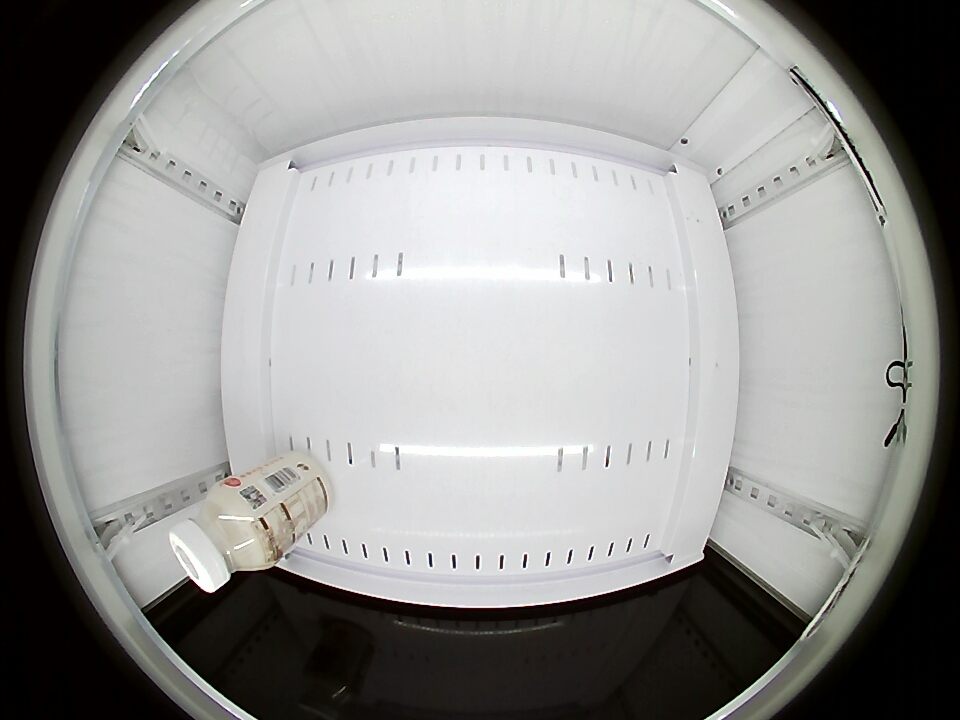weiweidounai: (168, 482, 278, 594)
